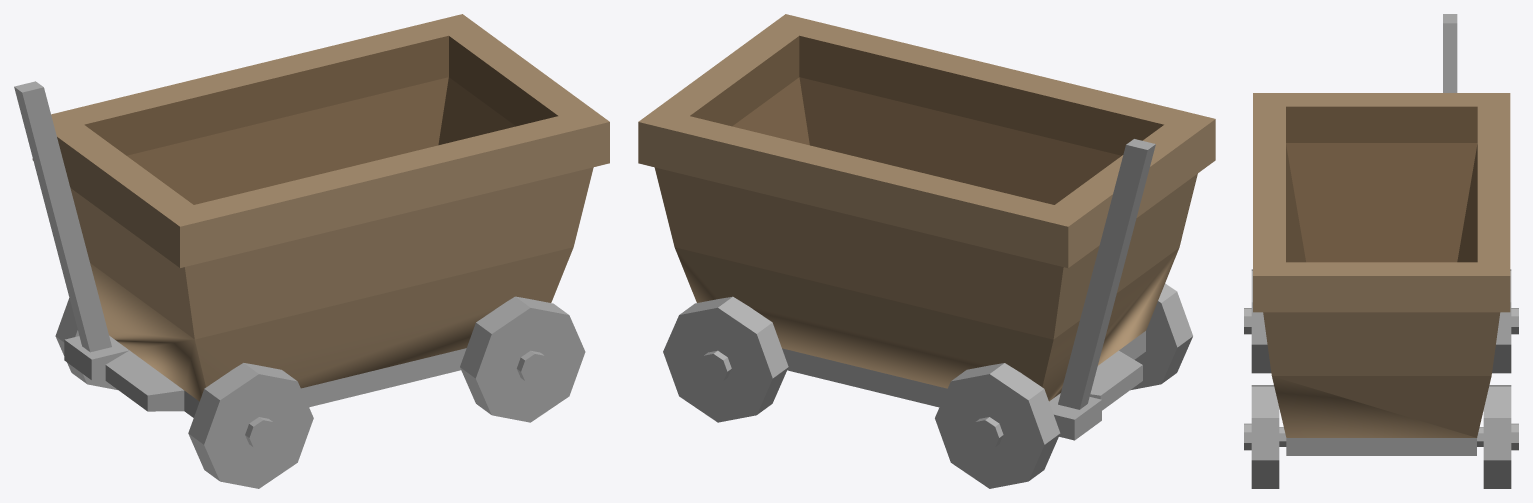
The model's file is Mine.fbx.
3 views of the same model, side by side, from view 1: azimuth 30°, elevation 25°; view 2: azimuth 150°, elevation 25°; view 3: azimuth 270°, elevation 25° (orthographic). The views are drawn at different scales.
Visible parts, largest first — view 1: Prop_Rail_Mine_Cart_01.002, Prop_Rail_Mine_Cart_01.001, Prop_Rail_Mine_Cart_01; view 2: Prop_Rail_Mine_Cart_01.002, Prop_Rail_Mine_Cart_01.001, Prop_Rail_Mine_Cart_01; view 3: Prop_Rail_Mine_Cart_01.002, Prop_Rail_Mine_Cart_01, Prop_Rail_Mine_Cart_01.001.
Boxes of the visible parts, x1,y1,x2,y2 form: Prop_Rail_Mine_Cart_01.002: (32, 14, 609, 401); Prop_Rail_Mine_Cart_01.001: (14, 81, 585, 488); Prop_Rail_Mine_Cart_01: (84, 35, 557, 204); Prop_Rail_Mine_Cart_01.002: (638, 14, 1215, 401); Prop_Rail_Mine_Cart_01.001: (663, 139, 1192, 488); Prop_Rail_Mine_Cart_01: (690, 35, 1163, 204); Prop_Rail_Mine_Cart_01.002: (1253, 93, 1510, 437); Prop_Rail_Mine_Cart_01: (1286, 106, 1477, 262); Prop_Rail_Mine_Cart_01.001: (1244, 14, 1518, 488).
Bounding box in the file's own units: 173 × 120 × 98.27.
